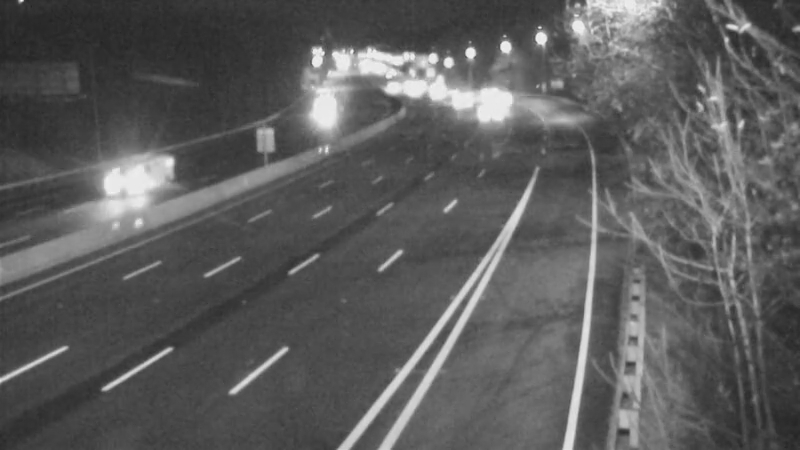vehicle: (85, 145, 165, 225), (438, 74, 488, 124), (474, 71, 524, 121), (467, 84, 517, 134), (296, 87, 346, 137)
